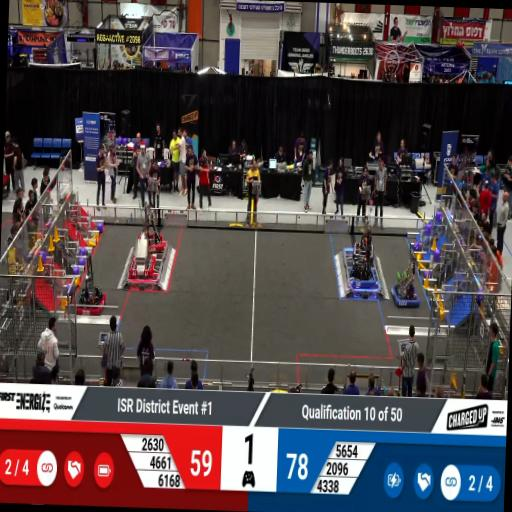robot: (134, 200, 166, 254), (75, 270, 107, 318), (390, 266, 421, 310), (350, 213, 376, 261), (348, 258, 377, 289), (128, 246, 156, 278)
